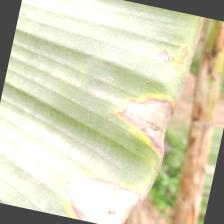cordana: (0, 0, 202, 224)
